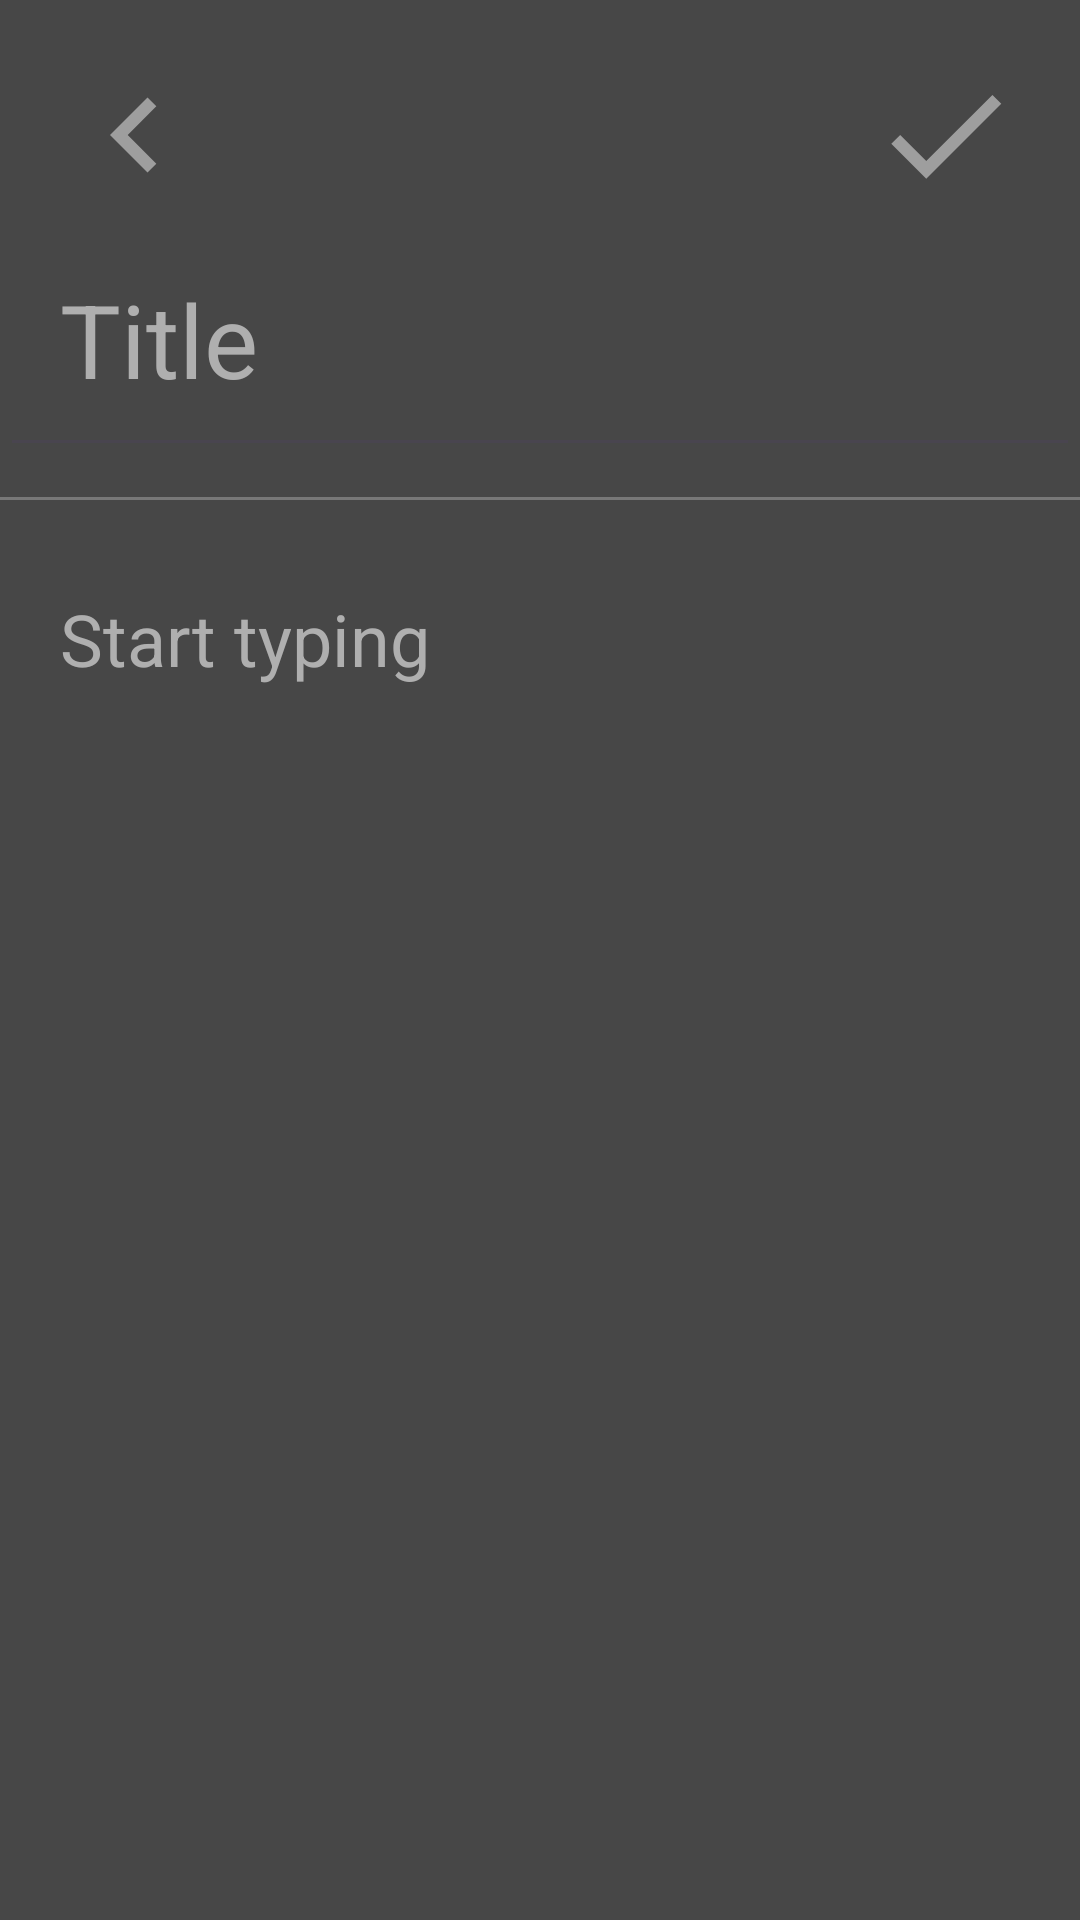

Where icons sit on this 1080×1920 app screen, as (x1, y1, x2, y2):
check: (891, 95, 1001, 179)
keyboard arrow left: (110, 98, 156, 172)
